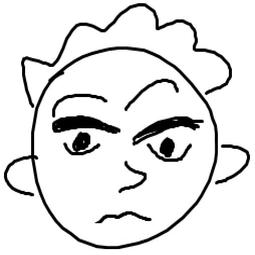ear: (210, 142, 251, 190), (3, 150, 36, 200)
eye: (43, 114, 120, 165), (129, 113, 204, 165)
eyebrow: (51, 90, 108, 115)
frowning_eyebrow: (122, 77, 183, 110)
line_unsmiling_mouth: (80, 204, 161, 226)
pointy_nose: (114, 159, 149, 196)
